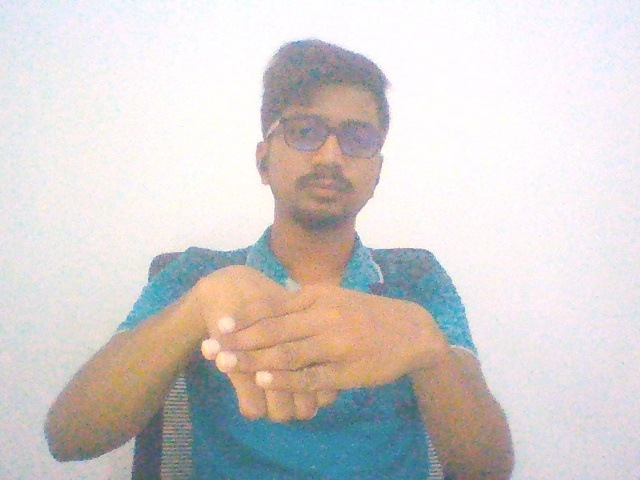pineapple: (165, 228, 454, 440)
